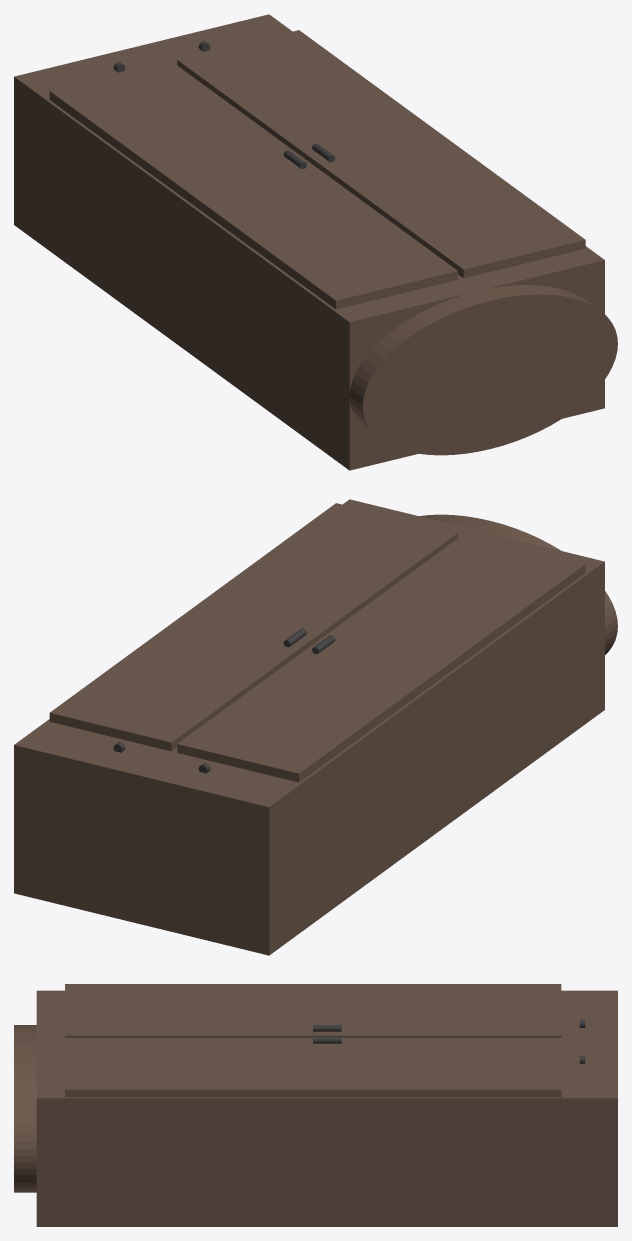
The model's file is urban_walnut_almirah_detailed.glb.
3 views of the same model, one above another, from view 1: azimuth 30°, elevation 25°; view 2: azimuth 150°, elevation 25°; view 3: azimuth 270°, elevation 25° (orthographic). The views are drawn at different scales.
Visible parts, largest first — view 1: world; view 2: world; view 3: world.
Part boxes in pixels (box(x1,y1,x2,y2)): world: box(14, 14, 617, 470); world: box(14, 499, 617, 955); world: box(14, 984, 617, 1226).
Bounding box in the file's own units: 0.9 × 0.552 × 2.13.
